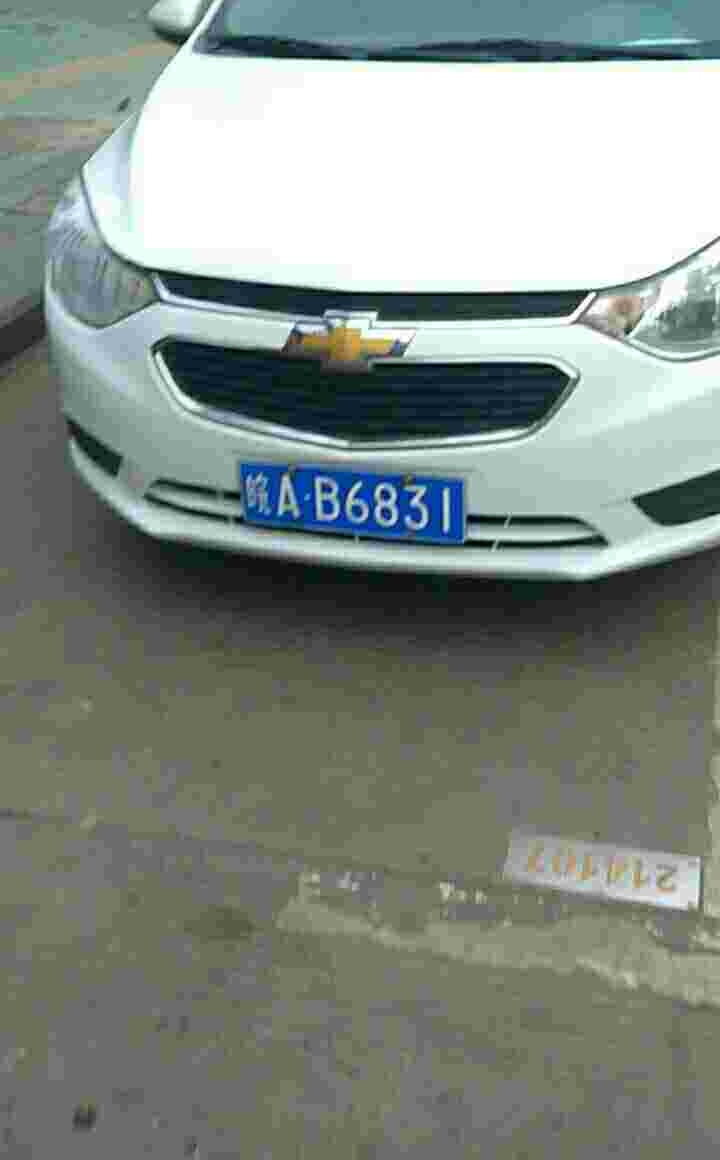plate: (238, 456, 473, 547)
